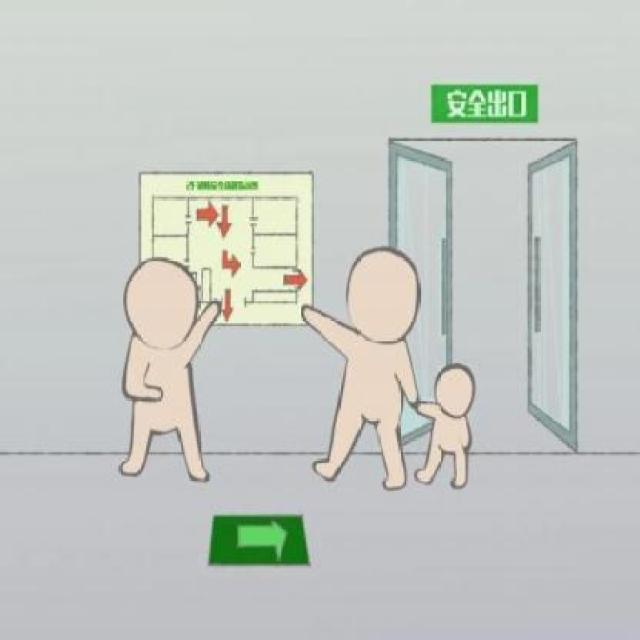exit_sign: (424, 80, 538, 128)
